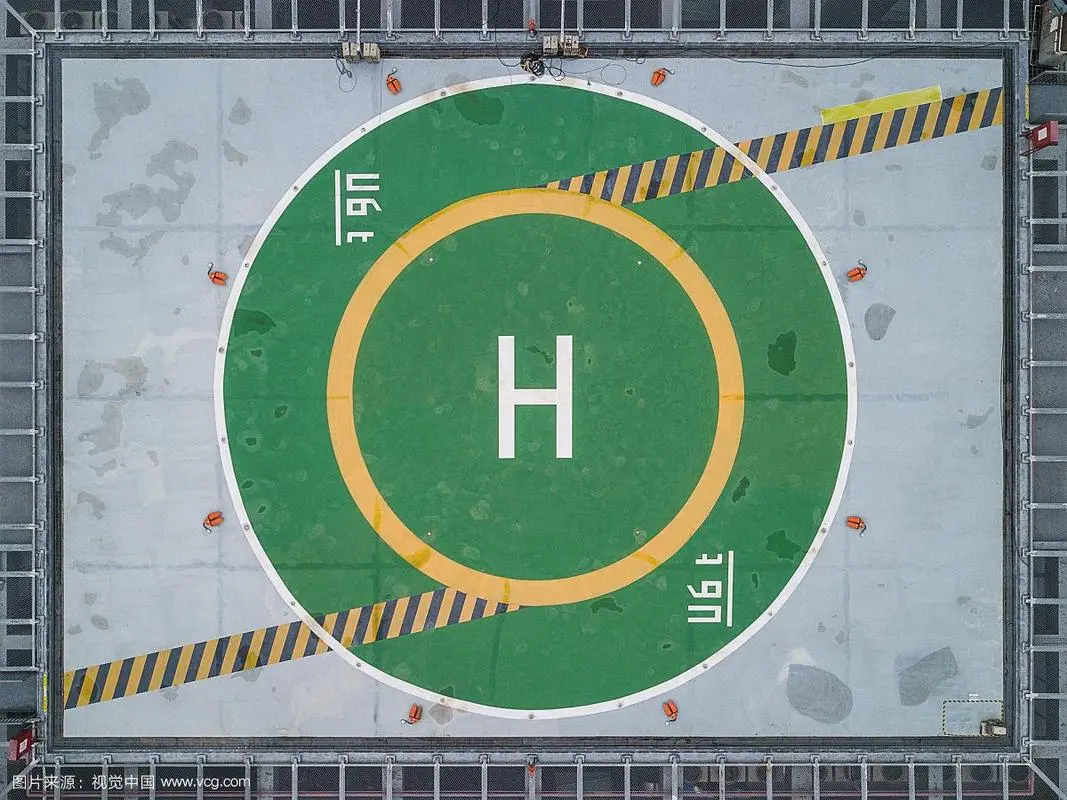Apron: (324, 188, 749, 608)
